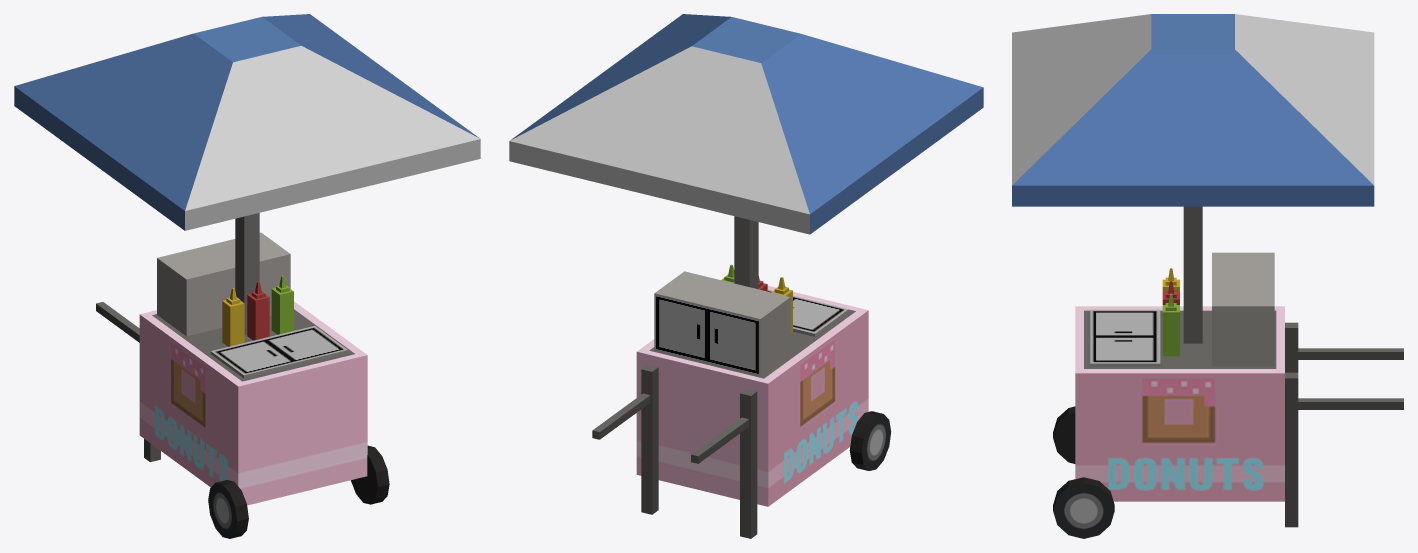
Rendered from SM_Donut_Cart_01.fbx.
The picture shows the model from 3 angles, left to right: view 1: azimuth 30°, elevation 25°; view 2: azimuth 150°, elevation 25°; view 3: azimuth 270°, elevation 25°; orthographic projection. The views are drawn at different scales.
Visible parts, largest first — view 1: SM_Donut_Cart_01; view 2: SM_Donut_Cart_01; view 3: SM_Donut_Cart_01.
Part boxes in pixels (<box>): SM_Donut_Cart_01: <box>14,14,480,538</box>; SM_Donut_Cart_01: <box>509,14,983,538</box>; SM_Donut_Cart_01: <box>1012,14,1403,538</box>.
Size of the model in its own units: 3.2 by 4.57 by 3.47.
